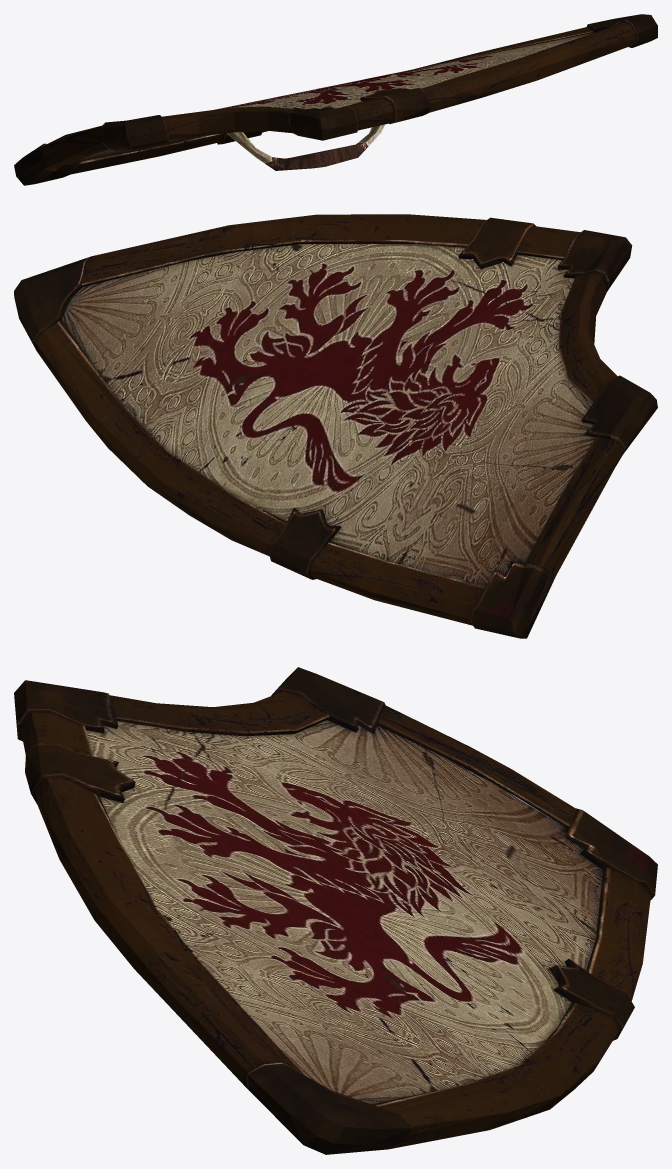
Rendered from SHIELD_01.glb.
3 renders of one model, top to bottom at view 1: azimuth 30°, elevation 25°; view 2: azimuth 150°, elevation 25°; view 3: azimuth 270°, elevation 25°, orthographic. The views are drawn at different scales.
Visible parts, largest first — view 1: SHIELD_01; view 2: SHIELD_01; view 3: SHIELD_01.
Boxes of the visible parts, x1=… form: SHIELD_01: x1=14, y1=14, x2=657, y2=185; SHIELD_01: x1=14, y1=214, x2=657, y2=638; SHIELD_01: x1=14, y1=667, x2=657, y2=1154.
Bounding box in the file's own units: 0.9896 × 0.3192 × 0.65.
Materials: 1 (1 with a texture image).
